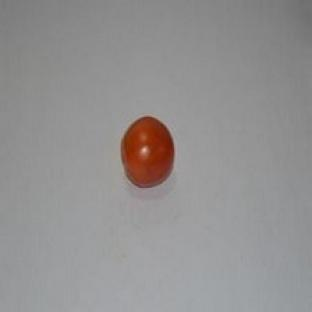Tomato: (122, 116, 174, 188)
